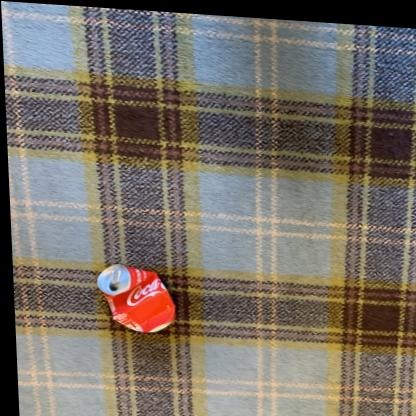trash: (97, 264, 174, 332)
